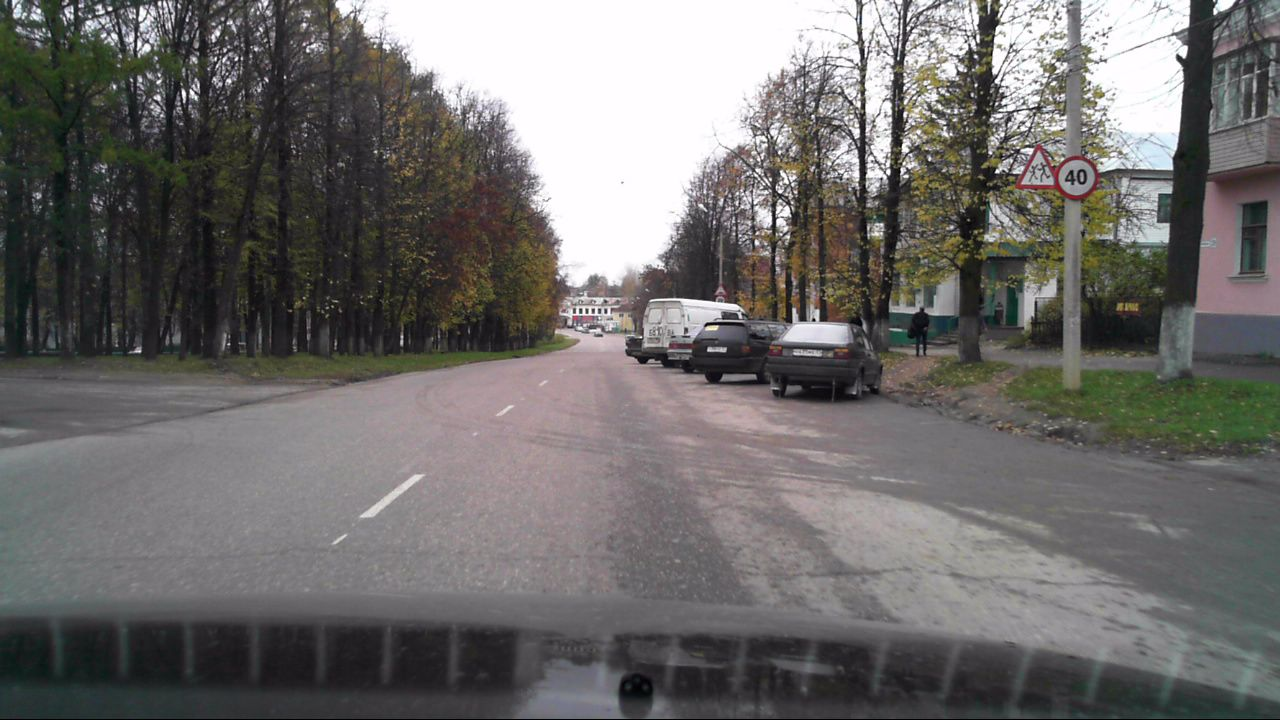speed_warning_40: (1056, 156, 1097, 200)
